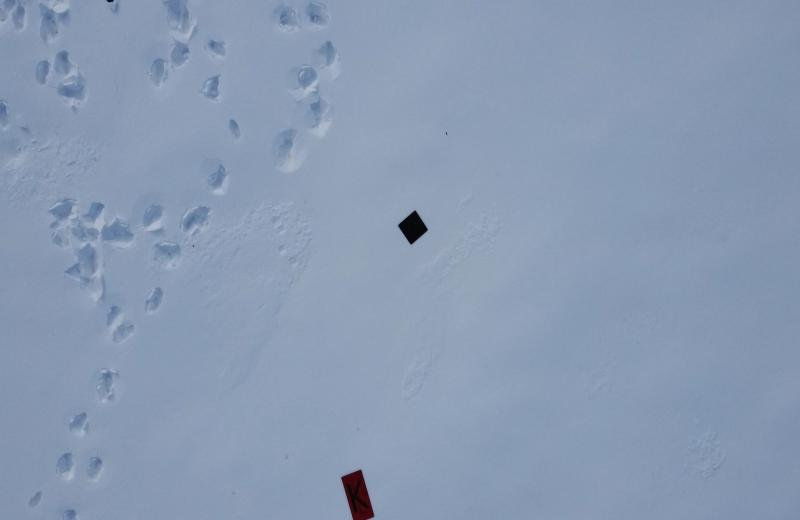Rectangle: (342, 466, 376, 520)
Square: (397, 208, 429, 246)
